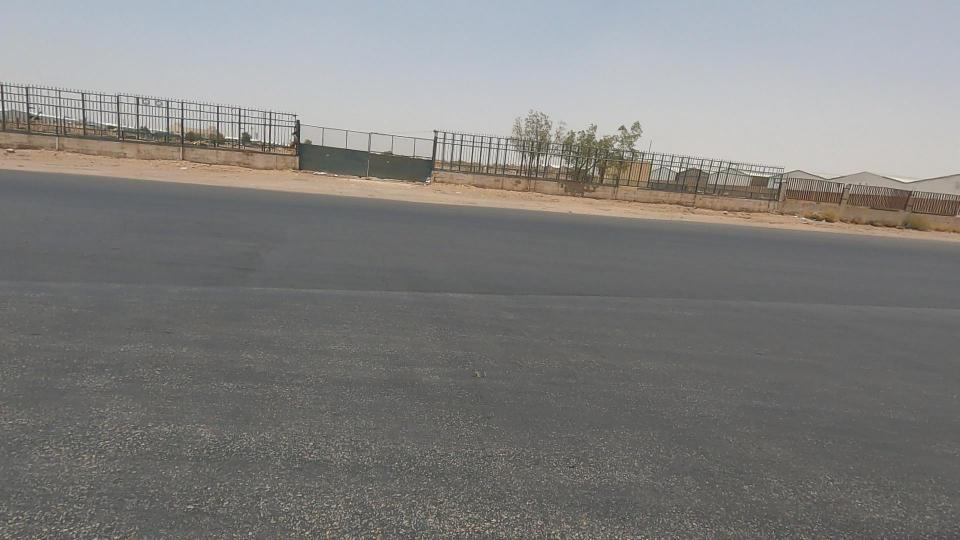GARBAGE: (767, 202, 838, 236), (396, 160, 457, 198), (287, 156, 340, 187), (159, 154, 204, 187)
